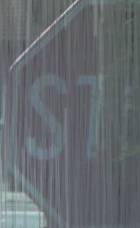Stop: (10, 9, 132, 195)
